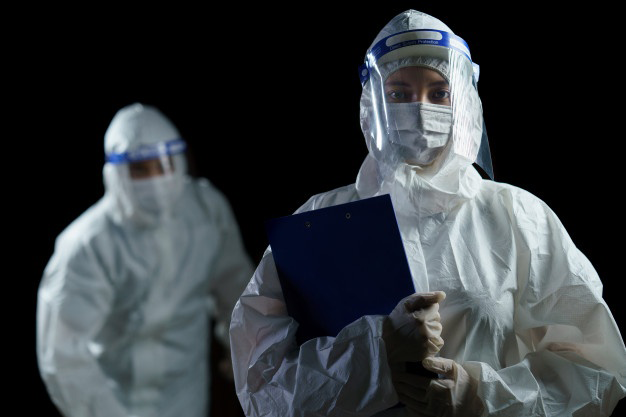Coverall: (230, 10, 623, 413), (37, 108, 243, 415)
Face_Shield: (359, 29, 498, 186), (109, 141, 196, 219)
Gloves: (394, 357, 474, 415), (387, 290, 446, 359)
with_mask: (385, 88, 451, 164), (134, 163, 182, 209)
